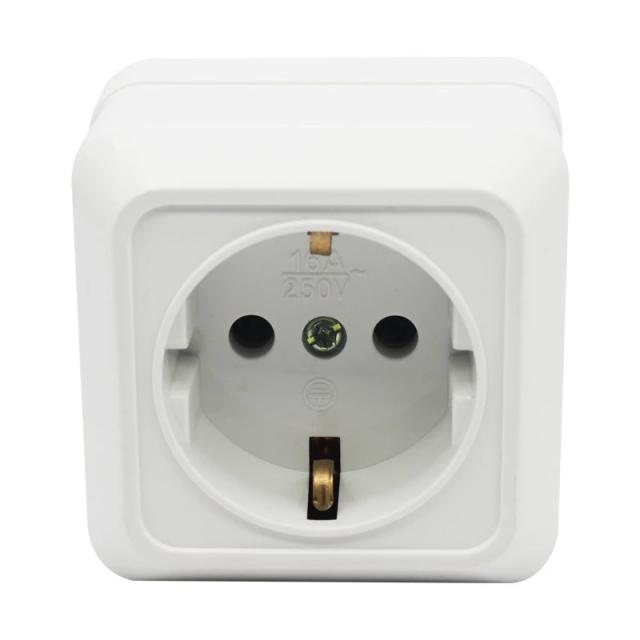typeb: (39, 27, 580, 615)
